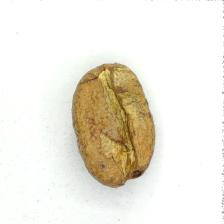NG: (82, 72, 148, 183)
